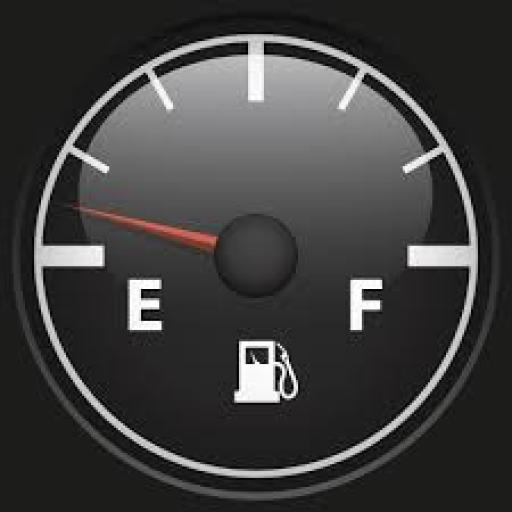empty: (119, 272, 167, 337)
fuel_icon: (225, 333, 297, 406)
full: (344, 272, 384, 332)
guage_area: (38, 30, 475, 473)
needle_center: (196, 208, 301, 297)
needle_tip: (60, 196, 117, 226)
